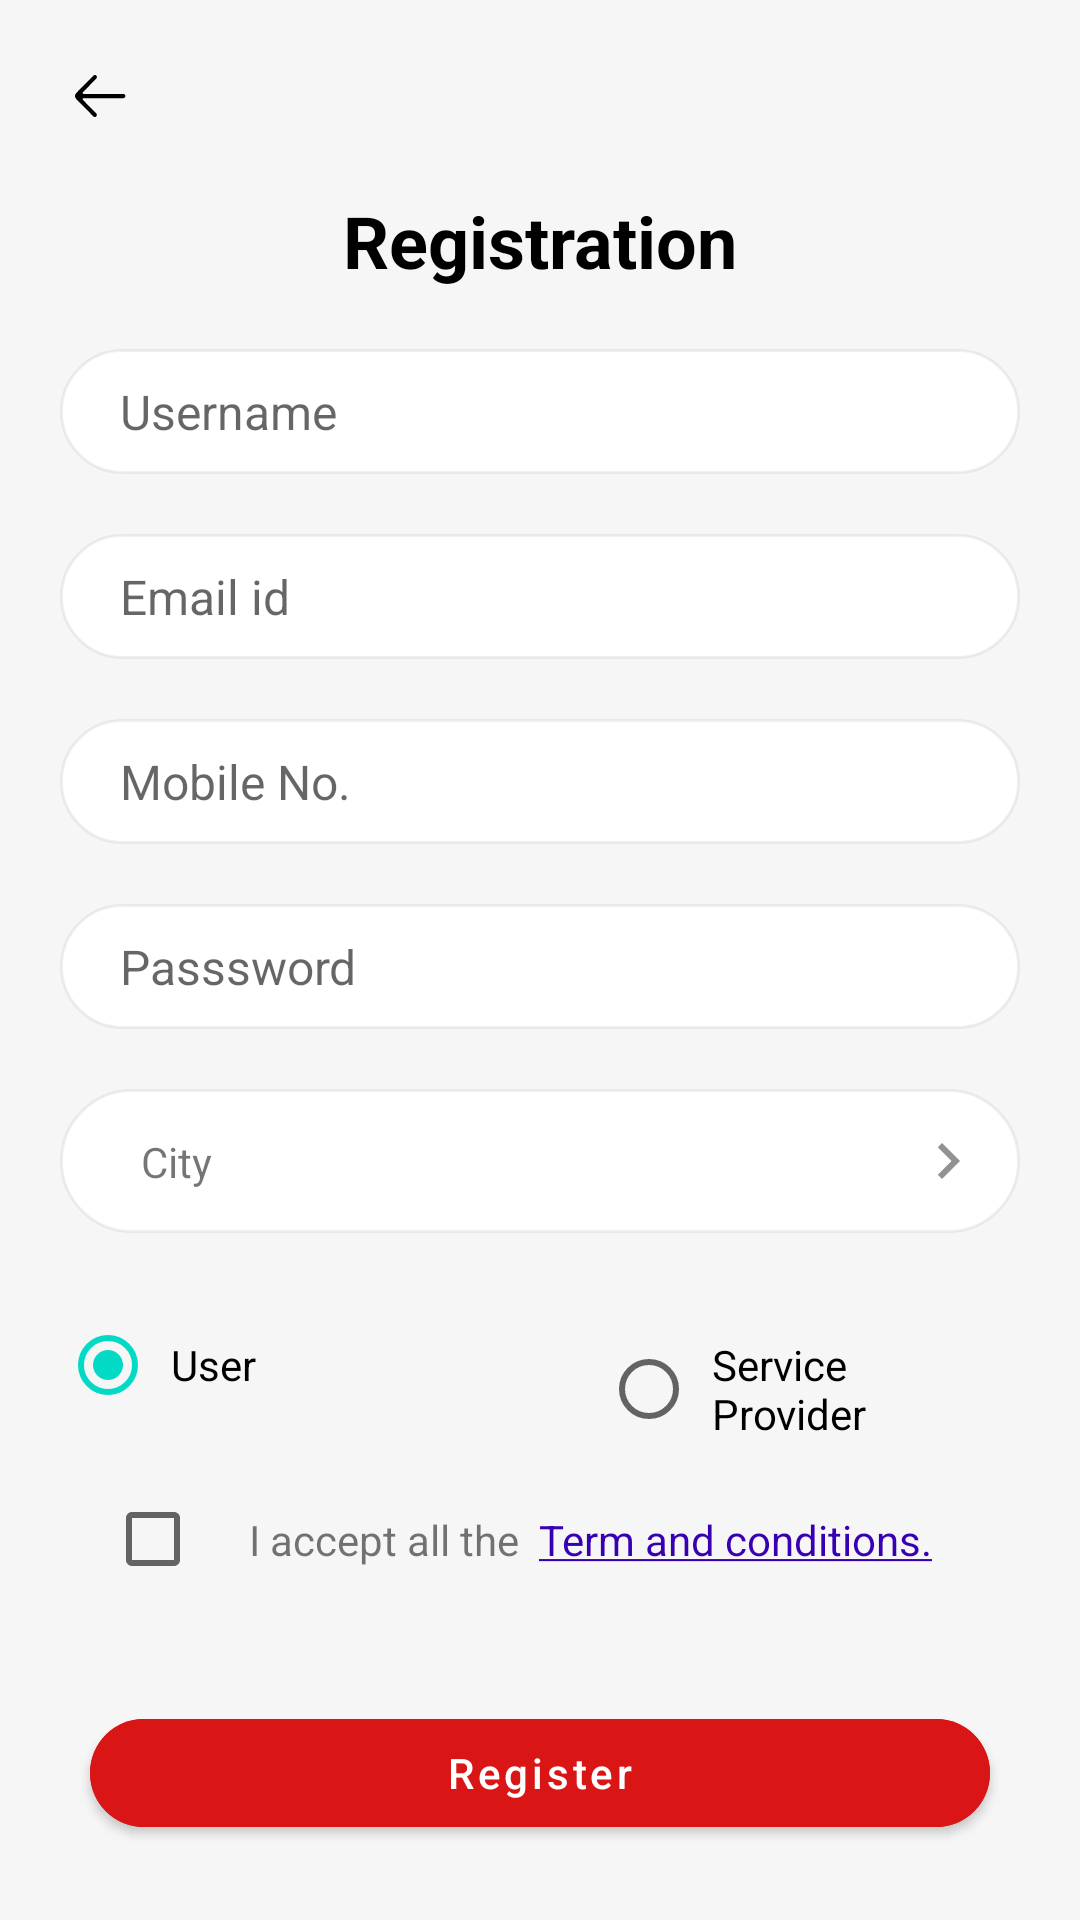

Named icons in this screenshot (1080x1920) and their centers, point (x, y):
5xback: point (100, 96)
chevron right: point (949, 1161)
